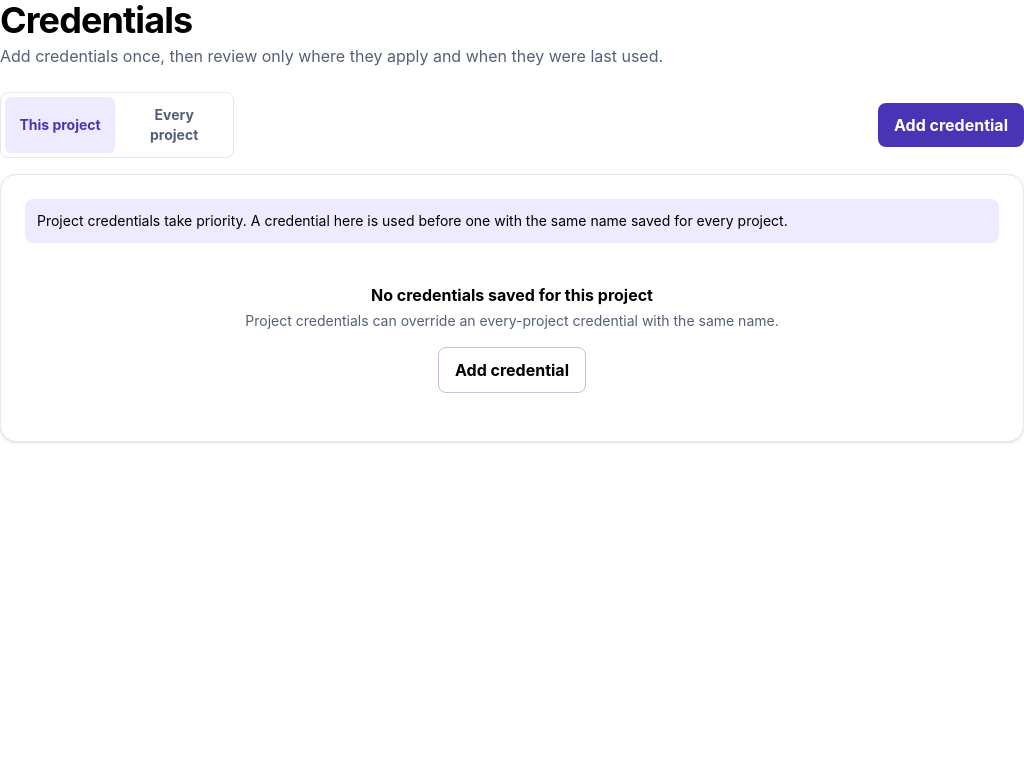
Test: keeps the panel after a failed save, clearing and focusing the value
expect the text "No credentials saved for this project" is shown: met, box [371,285,653,305]
Step 1. Click the 1st button "Add credential" → point(951, 125), box [878,103,1023,147]
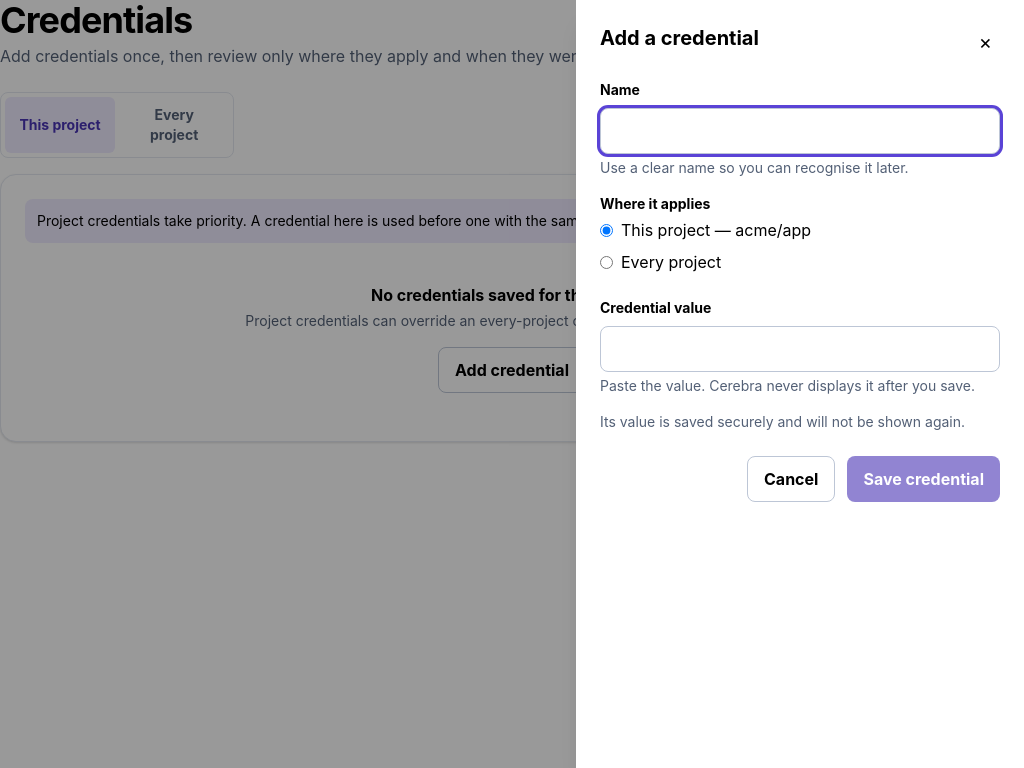
Step 2. Type "Deploy key" into the field labelled "Name" → point(800, 131), box [600,108,1000,154]
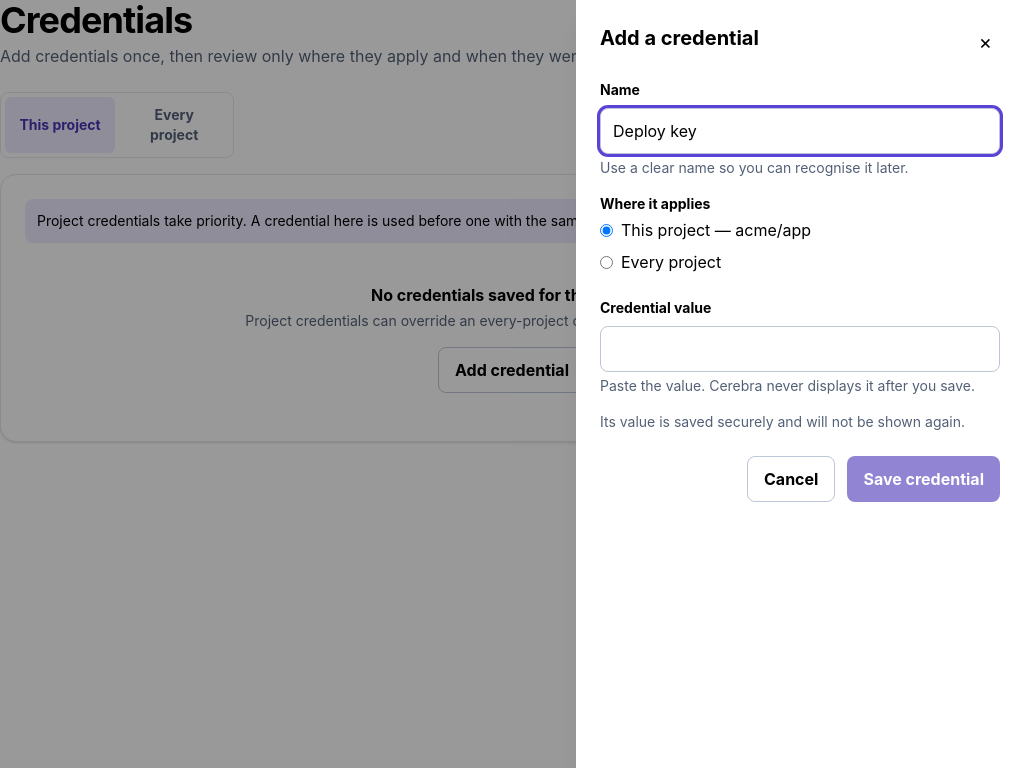
Step 3. Click the radio button labelled "Every project" → point(606, 262), box [600,256,613,268]
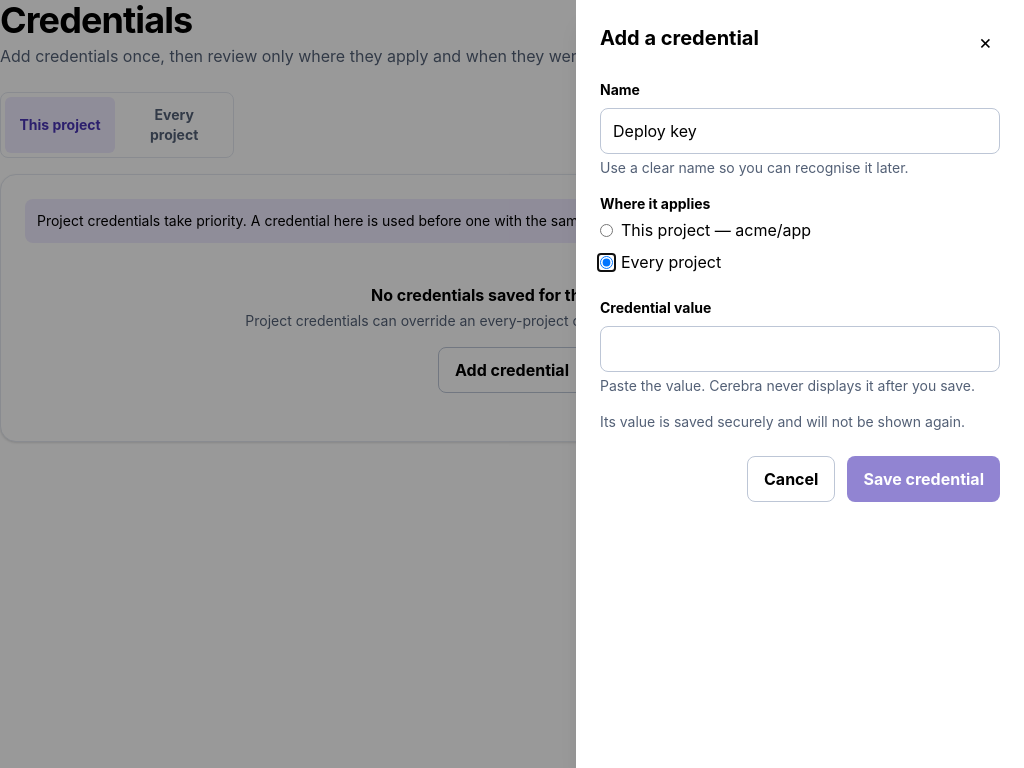
Step 4. Type "bad" into the password field labelled "Credential value" → point(800, 349), box [600,326,1000,372]
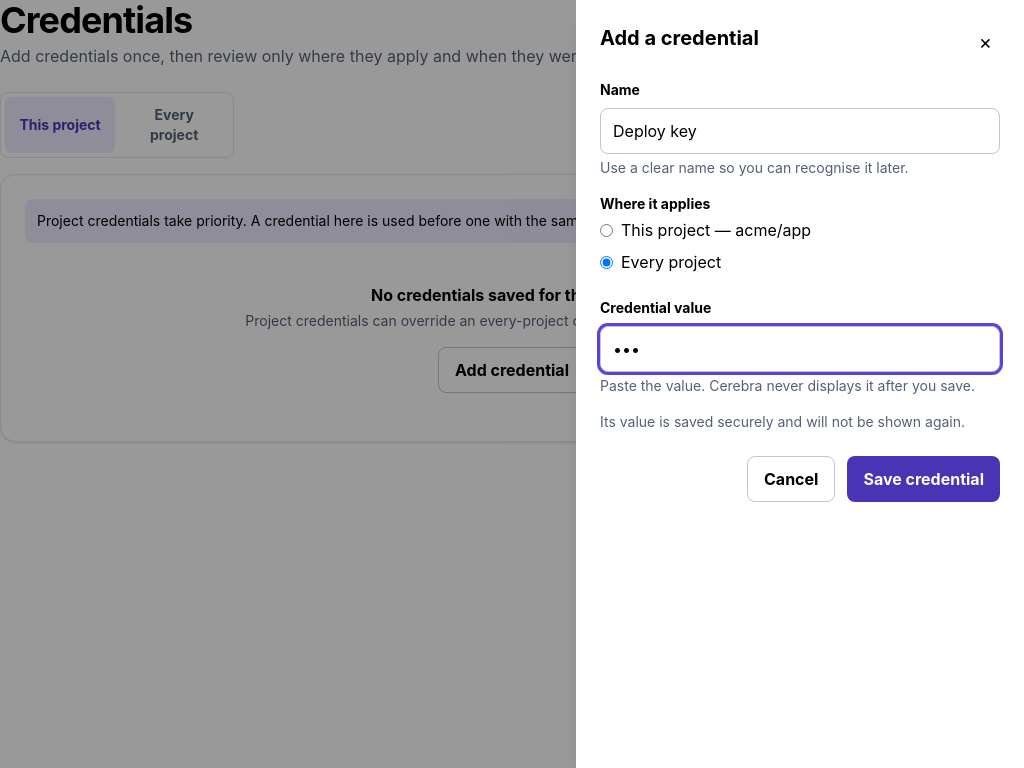
Step 5. Click the button "Save credential" → point(924, 479), box [847,456,1000,502]
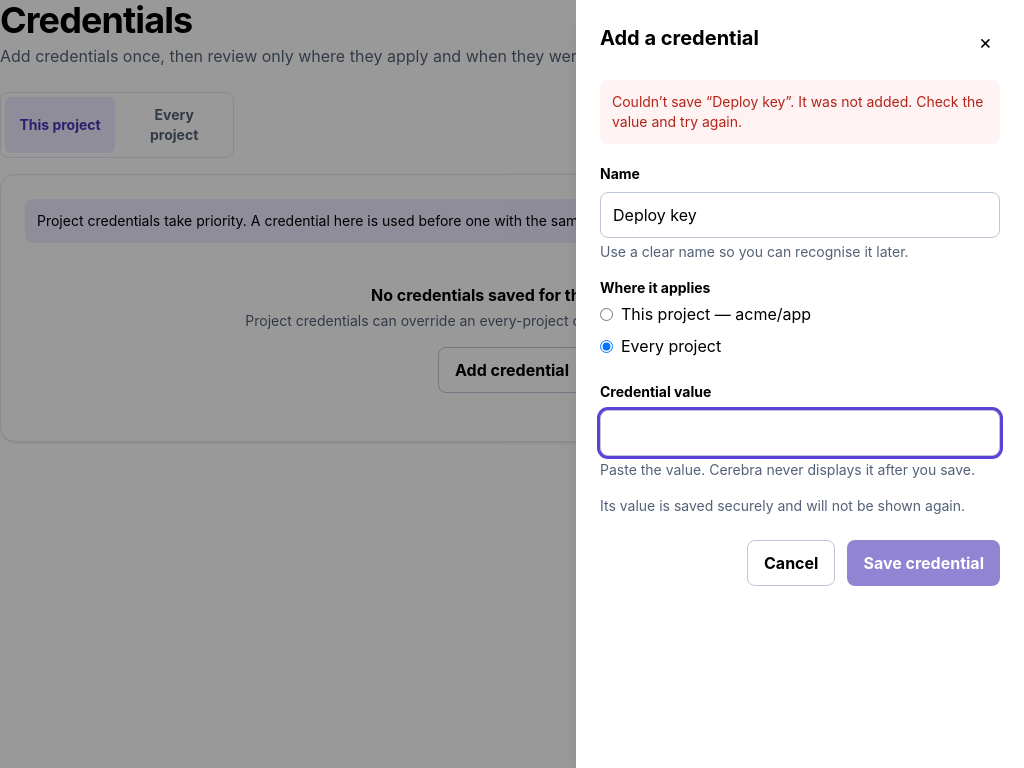
expect the radio button labelled "Every project" is checked: met, box [600,340,613,352]
expect the text "Couldn’t save “Deploy key”. It was not added. Check the value and try again." is shown: met, box [600,80,1000,144]
expect the password field labelled "Credential value" is empty: met, box [600,410,1000,456]
